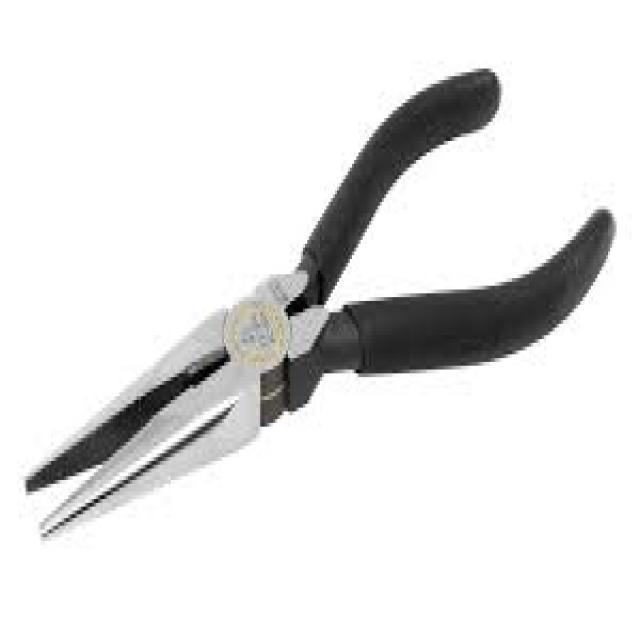pliers: (17, 50, 619, 549)
